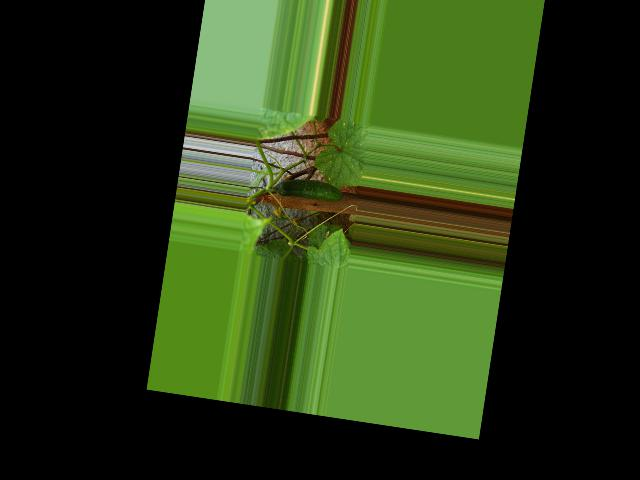cucumber: (276, 175, 344, 205)
